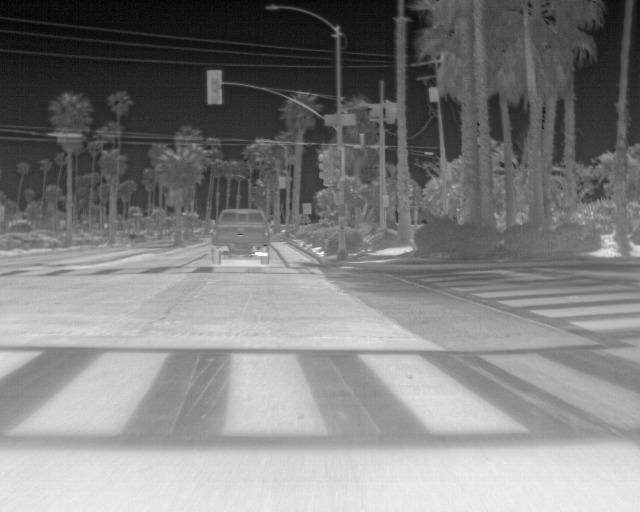car: (210, 209, 273, 266), (0, 232, 43, 251), (38, 234, 63, 249), (71, 232, 96, 245)
light: (208, 71, 222, 104), (318, 152, 330, 181), (331, 148, 342, 176)
sign: (323, 114, 355, 125), (303, 204, 312, 214)
